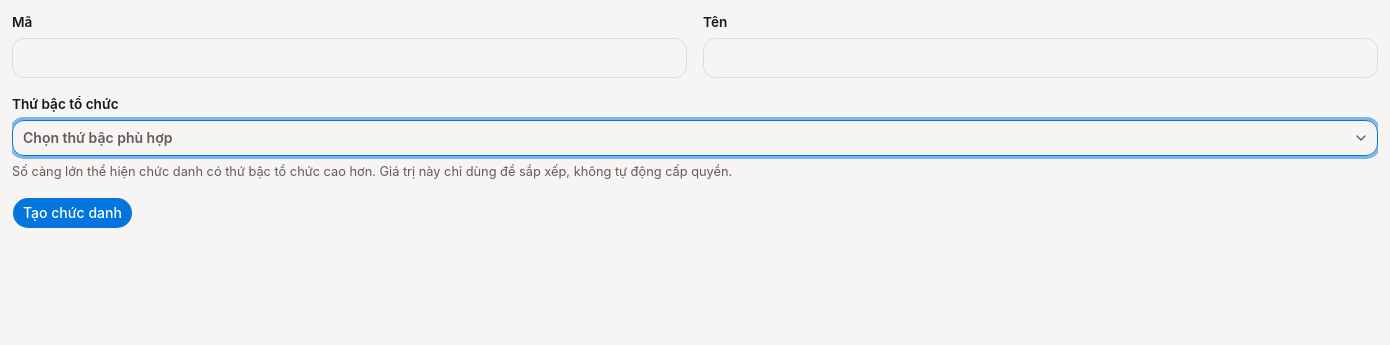
PositionForm › lets users choose a clearly titled organizational rank
Check: the dropdown named "Thứ bậc tổ chức" reads "Chọn thứ bậc phù hợp", box [12, 120, 1378, 156]
Check: the text "Số càng lớn thể hiện chức danh có thứ bậc tổ chức cao hơn. Giá trị này chỉ dùng để sắp xếp, không tự động cấp quyền." is shown, box [12, 164, 732, 179]
Press Arrowdown
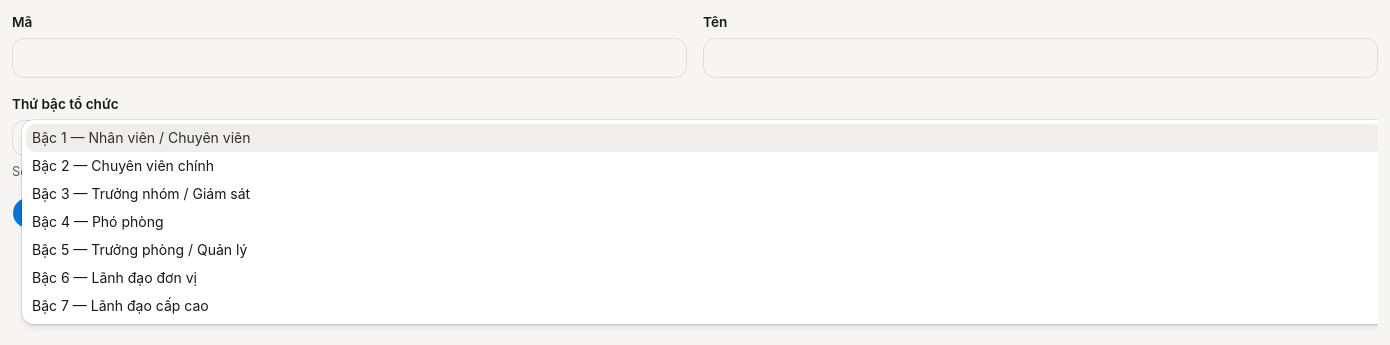
Click the option "Bậc 1 — Nhân viên / Chuyên viên": (141, 137) [26, 124, 1378, 152]
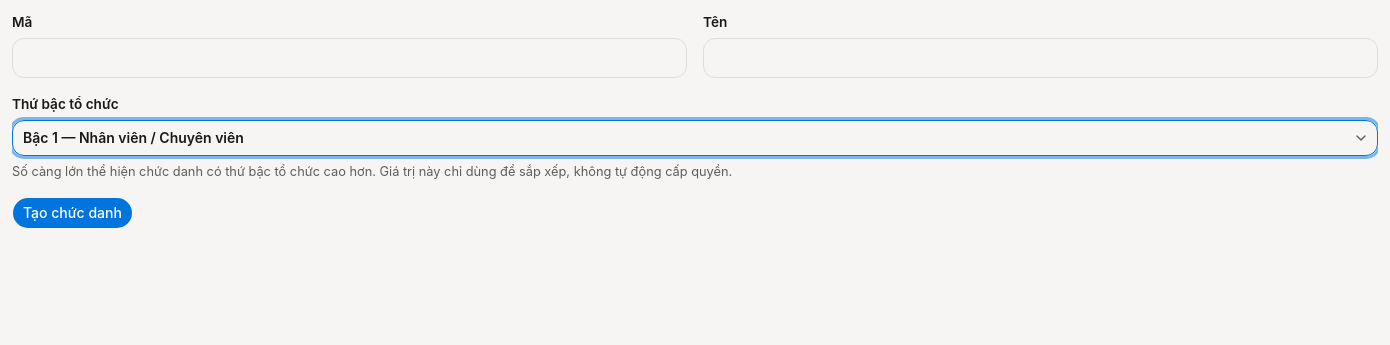
Check: the dropdown named "Thứ bậc tổ chức" reads "Bậc 1 — Nhân viên / Chuyên viên", box [12, 120, 1378, 156]
